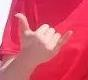clockwise: (13, 9, 74, 66)
